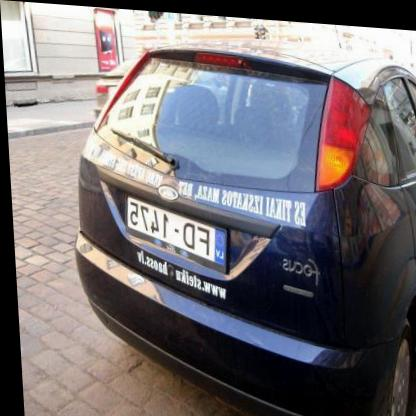License_Plate: (122, 193, 230, 275)
